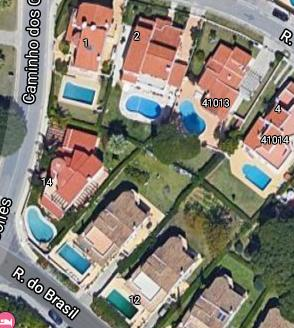pool: (24, 205, 57, 246), (58, 242, 92, 275), (178, 99, 206, 136), (106, 288, 138, 320), (125, 94, 161, 119), (242, 163, 272, 191), (62, 80, 96, 104), (289, 0, 294, 8)
